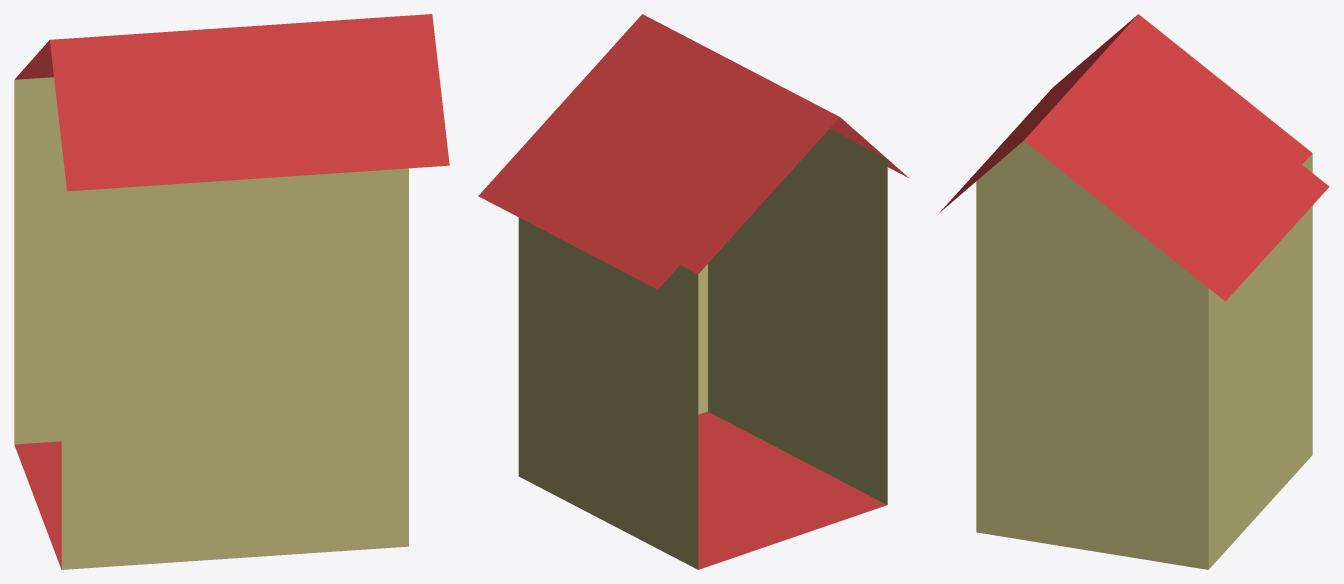
3 renders of one model, left to right at view 1: azimuth 30°, elevation 25°; view 2: azimuth 150°, elevation 25°; view 3: azimuth 270°, elevation 25°, orthographic. The views are drawn at different scales.
Bounding box in the file's own units: 6.97 × 6.67 × 7.76.
